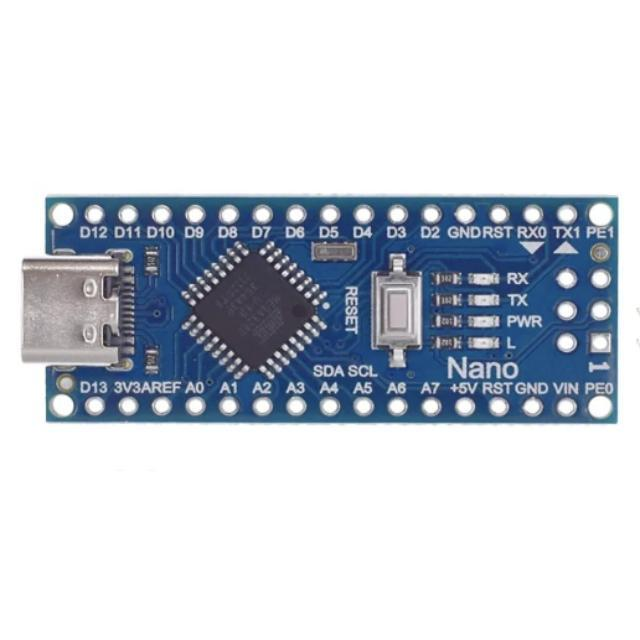Arduino-Nano: (23, 198, 618, 424)
